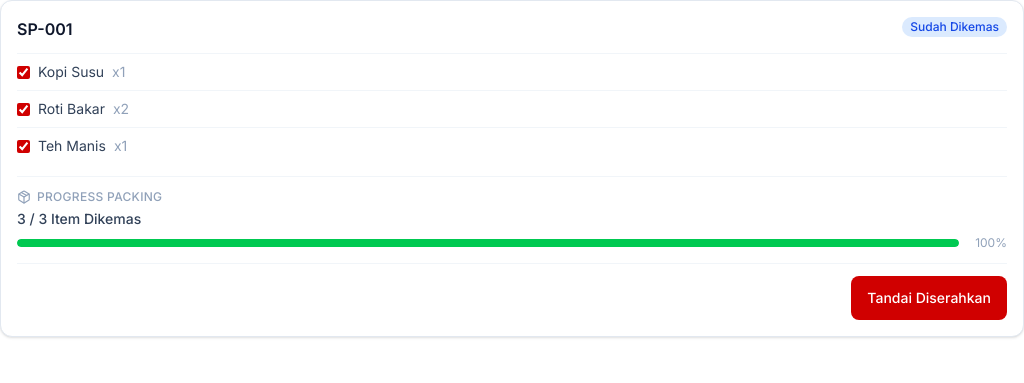
Test: Checklist/Status gagal -- inline error, bukan window.alert (Task 6) › advanceStatus ("Tandai Diserahkan") gagal -- TIDAK window.alert, error tampil inline, fallback Bahasa Indonesia kalau bukan ApiRequestError
This screenshot has width=1024, height=383.
Click the button "Tandai Diserahkan" at (929, 298), box [851,276,1007,320]
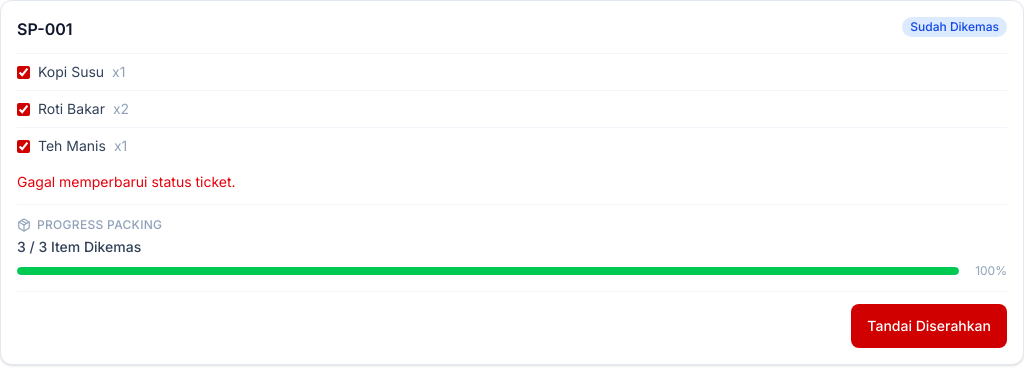
Expected: the button "Tandai Diserahkan" is shown, [851,304,1007,348]
Expected: the text "Gagal memperbarui status ticket." is shown, [17,173,236,190]
